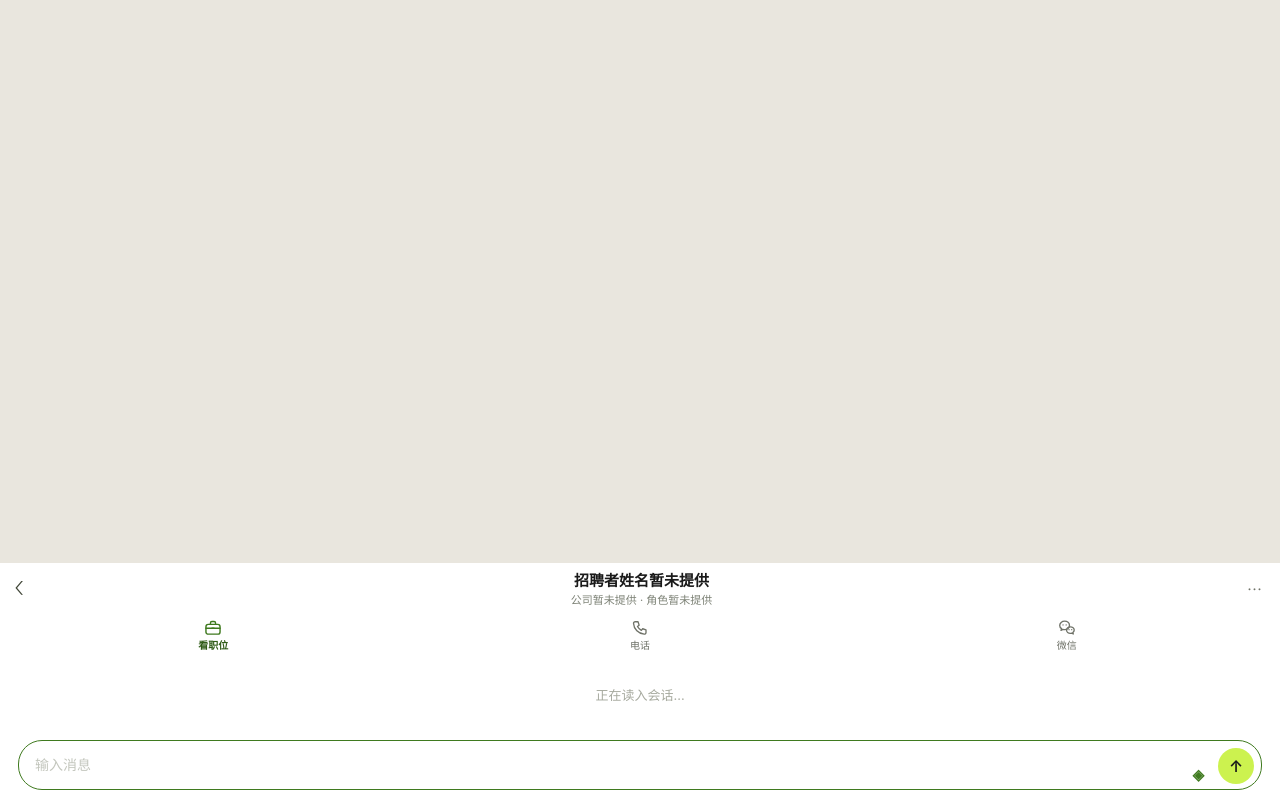
Test: Backend真人会话 › 候选端「看职位」盖全屏层（不再路由跳转）：电话/微信诚实缺失占位，无复制
(page scrolled)
Expected: the button "看职位" is shown, [0,615,427,659]
Expected: the button "微信" is shown, [853,615,1279,659]
Step 1. Click the button "电话" → (640, 637), box [427,615,853,659]
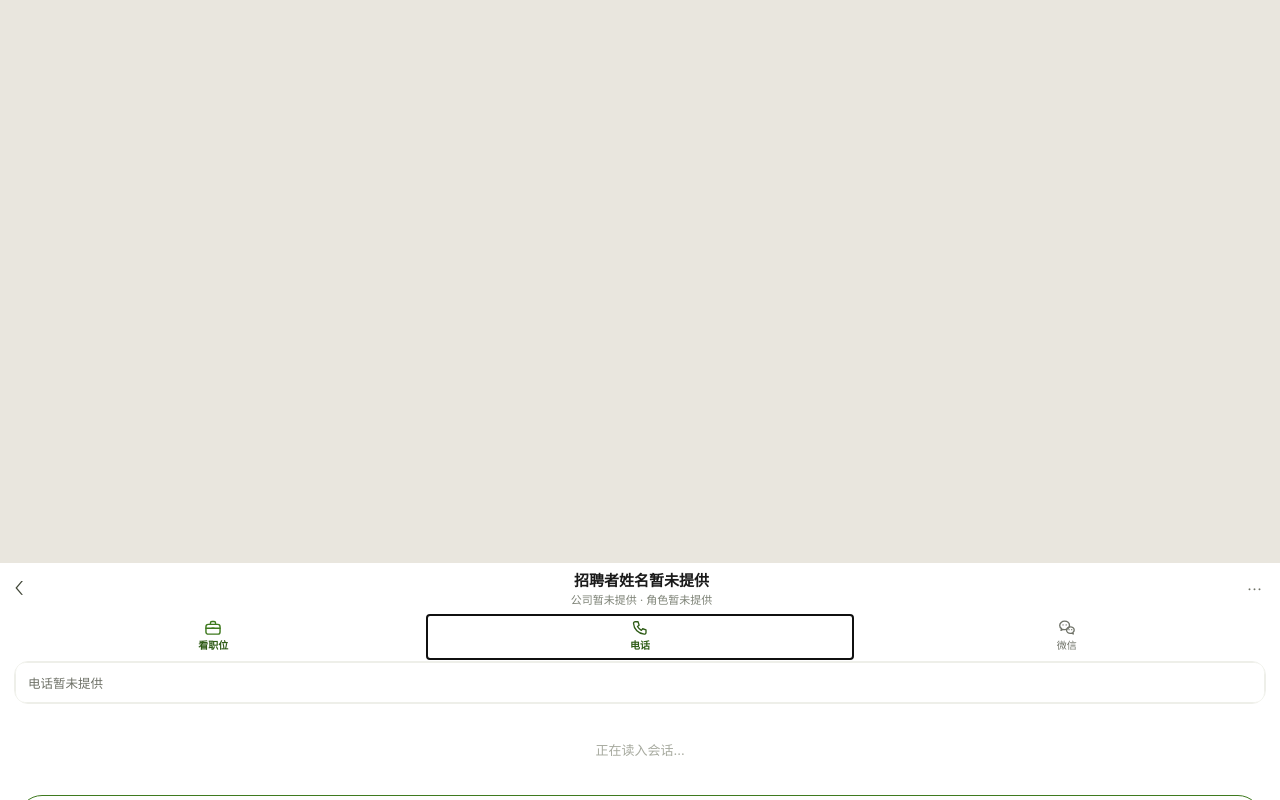
Expected: the text "电话暂未提供" is shown, [15,662,1265,703]
# 主项开层：不再跳岗位路由，也不取 PDF
Step 2. Click the button "看职位" → (213, 637), box [0,615,427,659]
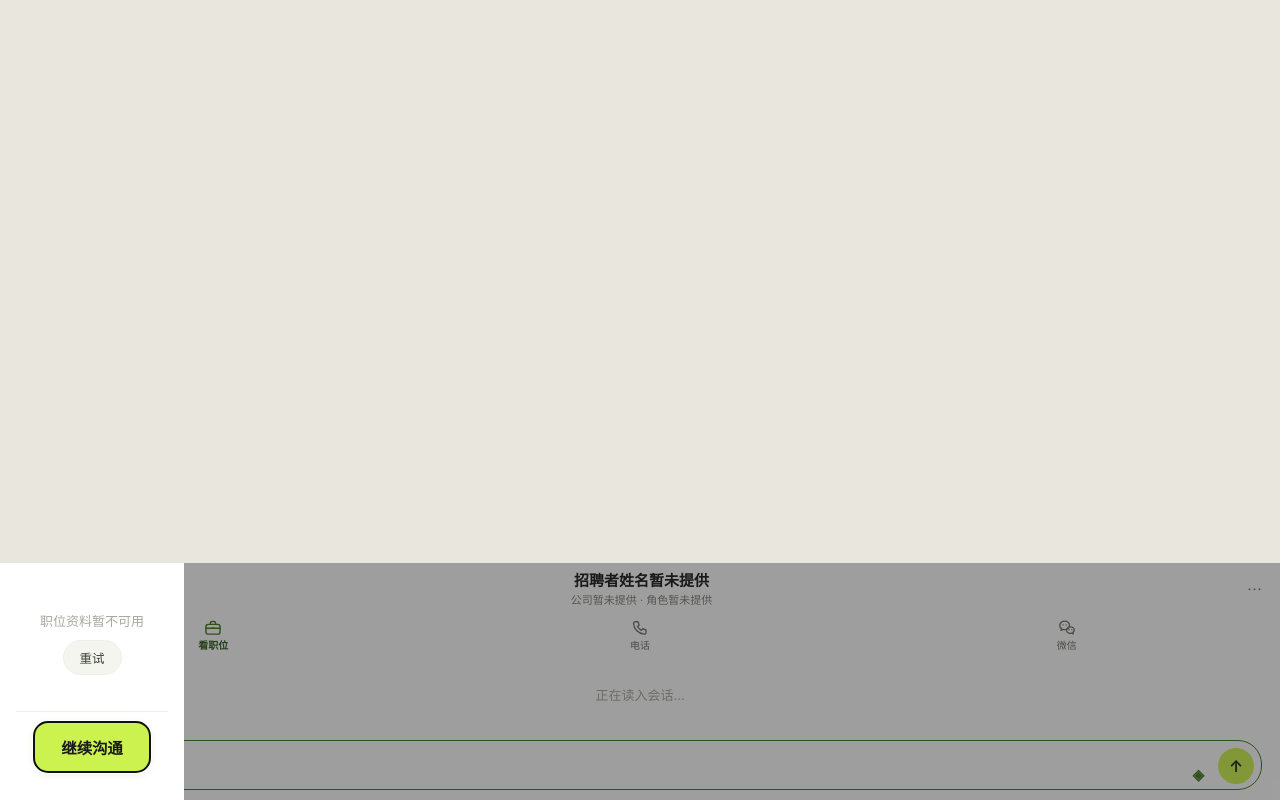
Expected: the dialog named "看职位" is shown, [0,563,184,799]
Expected: the text "职位资料暂不可用" is shown, [40,613,144,629]
Step 3. Click the button "继续沟通" → (92, 747), box [34,722,150,772]
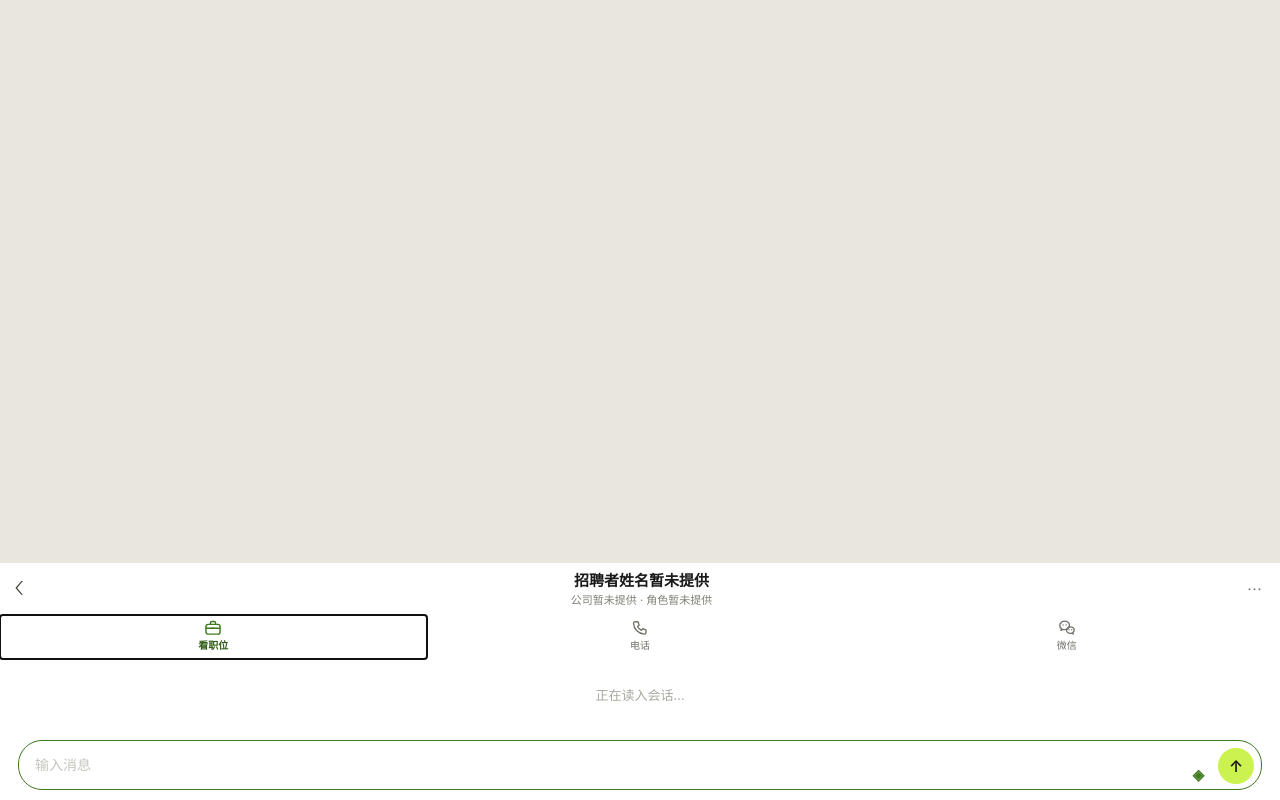
Expected: the dialog is gone
